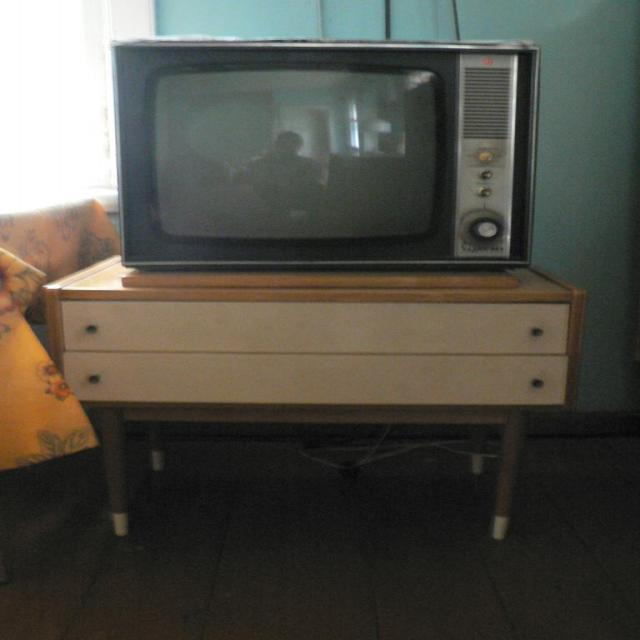desk: (34, 232, 574, 510)
tv: (111, 39, 548, 274)
